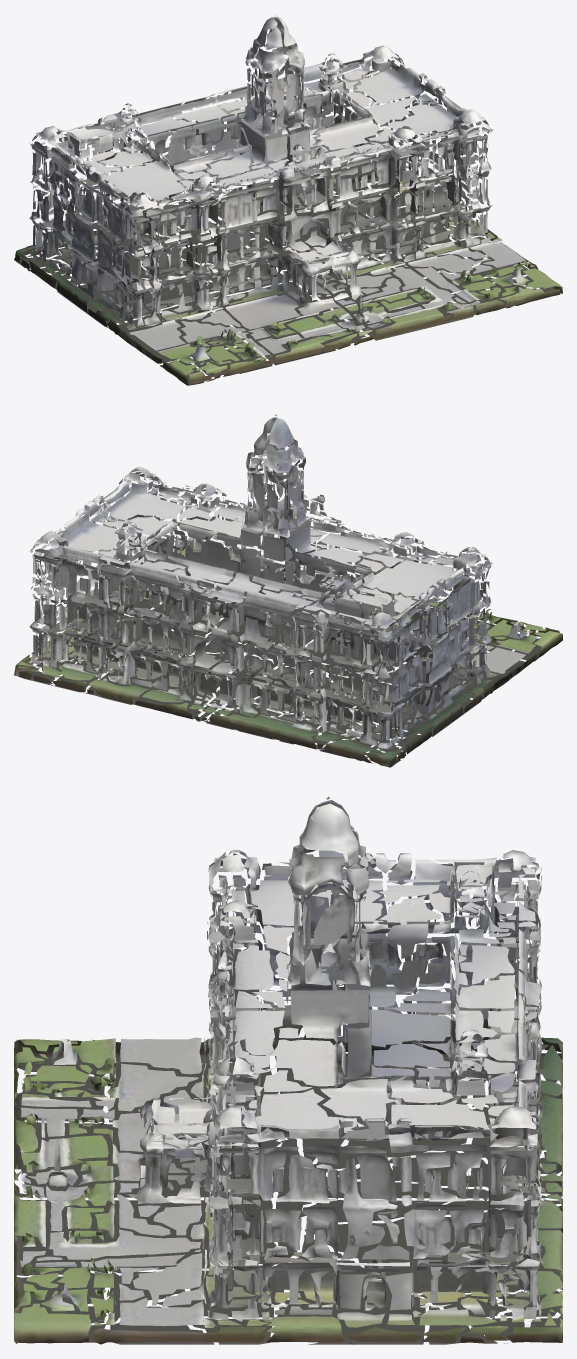
Rendered from ripon_building.glb.
3 views of the same model, one above another, from view 1: azimuth 30°, elevation 25°; view 2: azimuth 150°, elevation 25°; view 3: azimuth 270°, elevation 25° (orthographic). The views are drawn at different scales.
Visible parts, largest first — view 1: LowPolyProp; view 2: LowPolyProp; view 3: LowPolyProp.
Boxes of the visible parts, x1,y1,x2,y2 form: LowPolyProp: (14, 14, 562, 385); LowPolyProp: (14, 414, 562, 767); LowPolyProp: (14, 796, 562, 1344).
Size of the model in its own units: 0.9806 by 0.6328 by 0.782.
Materials: 1 (1 with a texture image).
